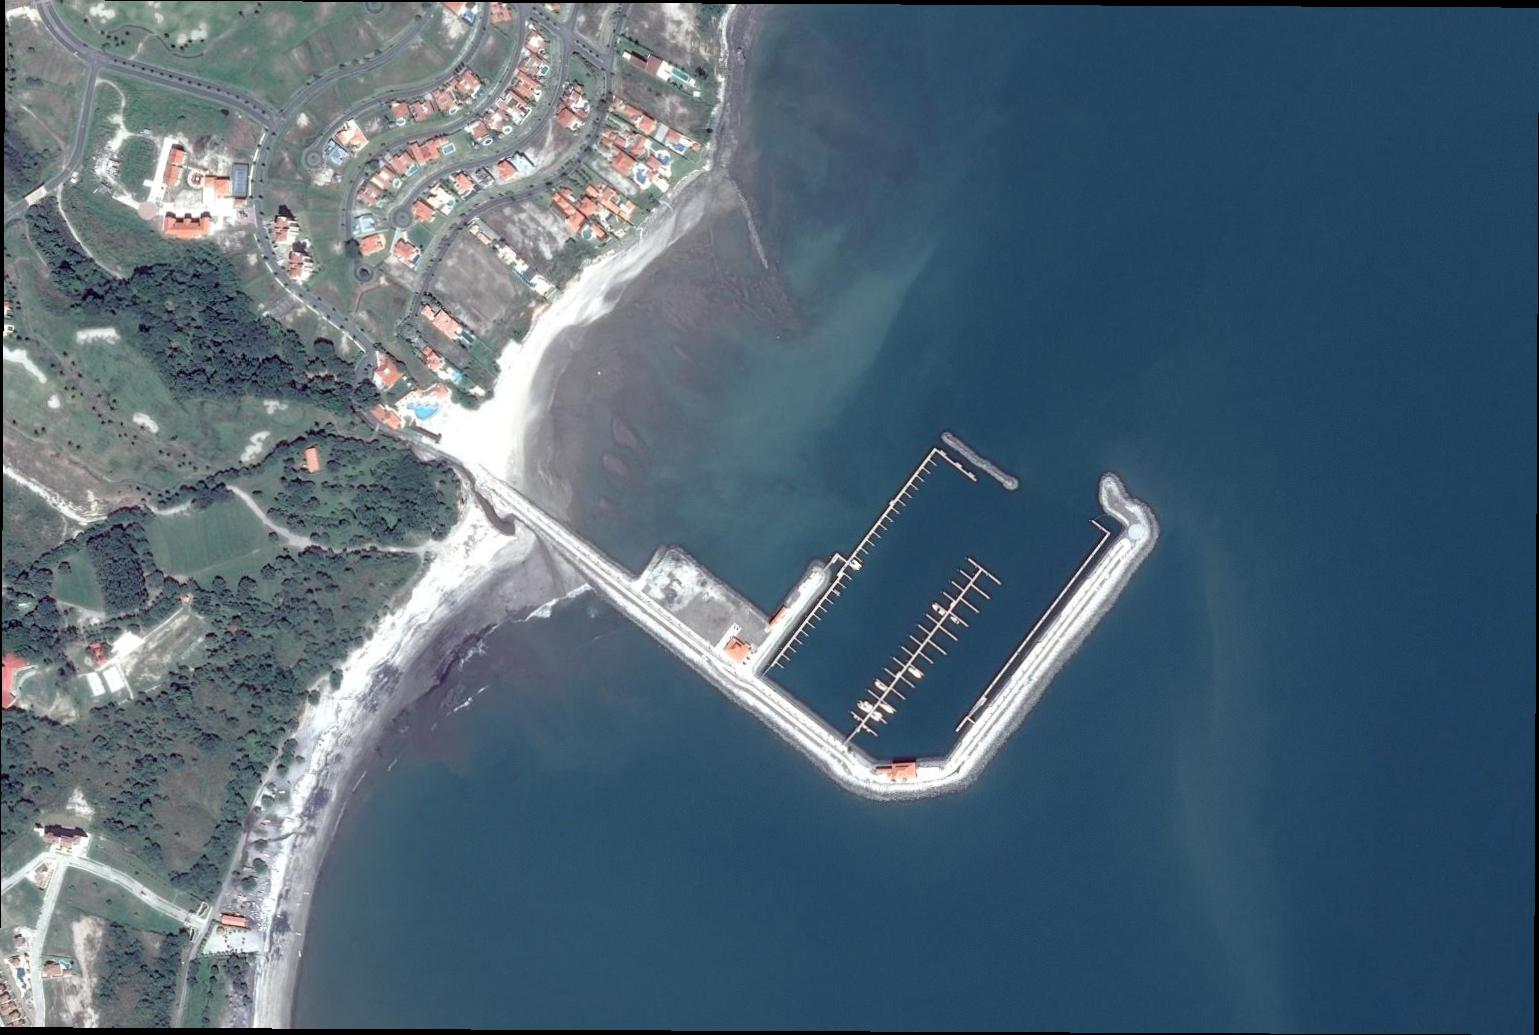harbor: (907, 467, 1190, 799), (759, 441, 983, 703), (841, 551, 1009, 749)
ship: (877, 703, 895, 716), (907, 667, 922, 680), (932, 604, 946, 617), (874, 680, 887, 692), (858, 702, 871, 714), (949, 616, 961, 626), (851, 560, 862, 571), (875, 710, 886, 718), (865, 702, 875, 710)
